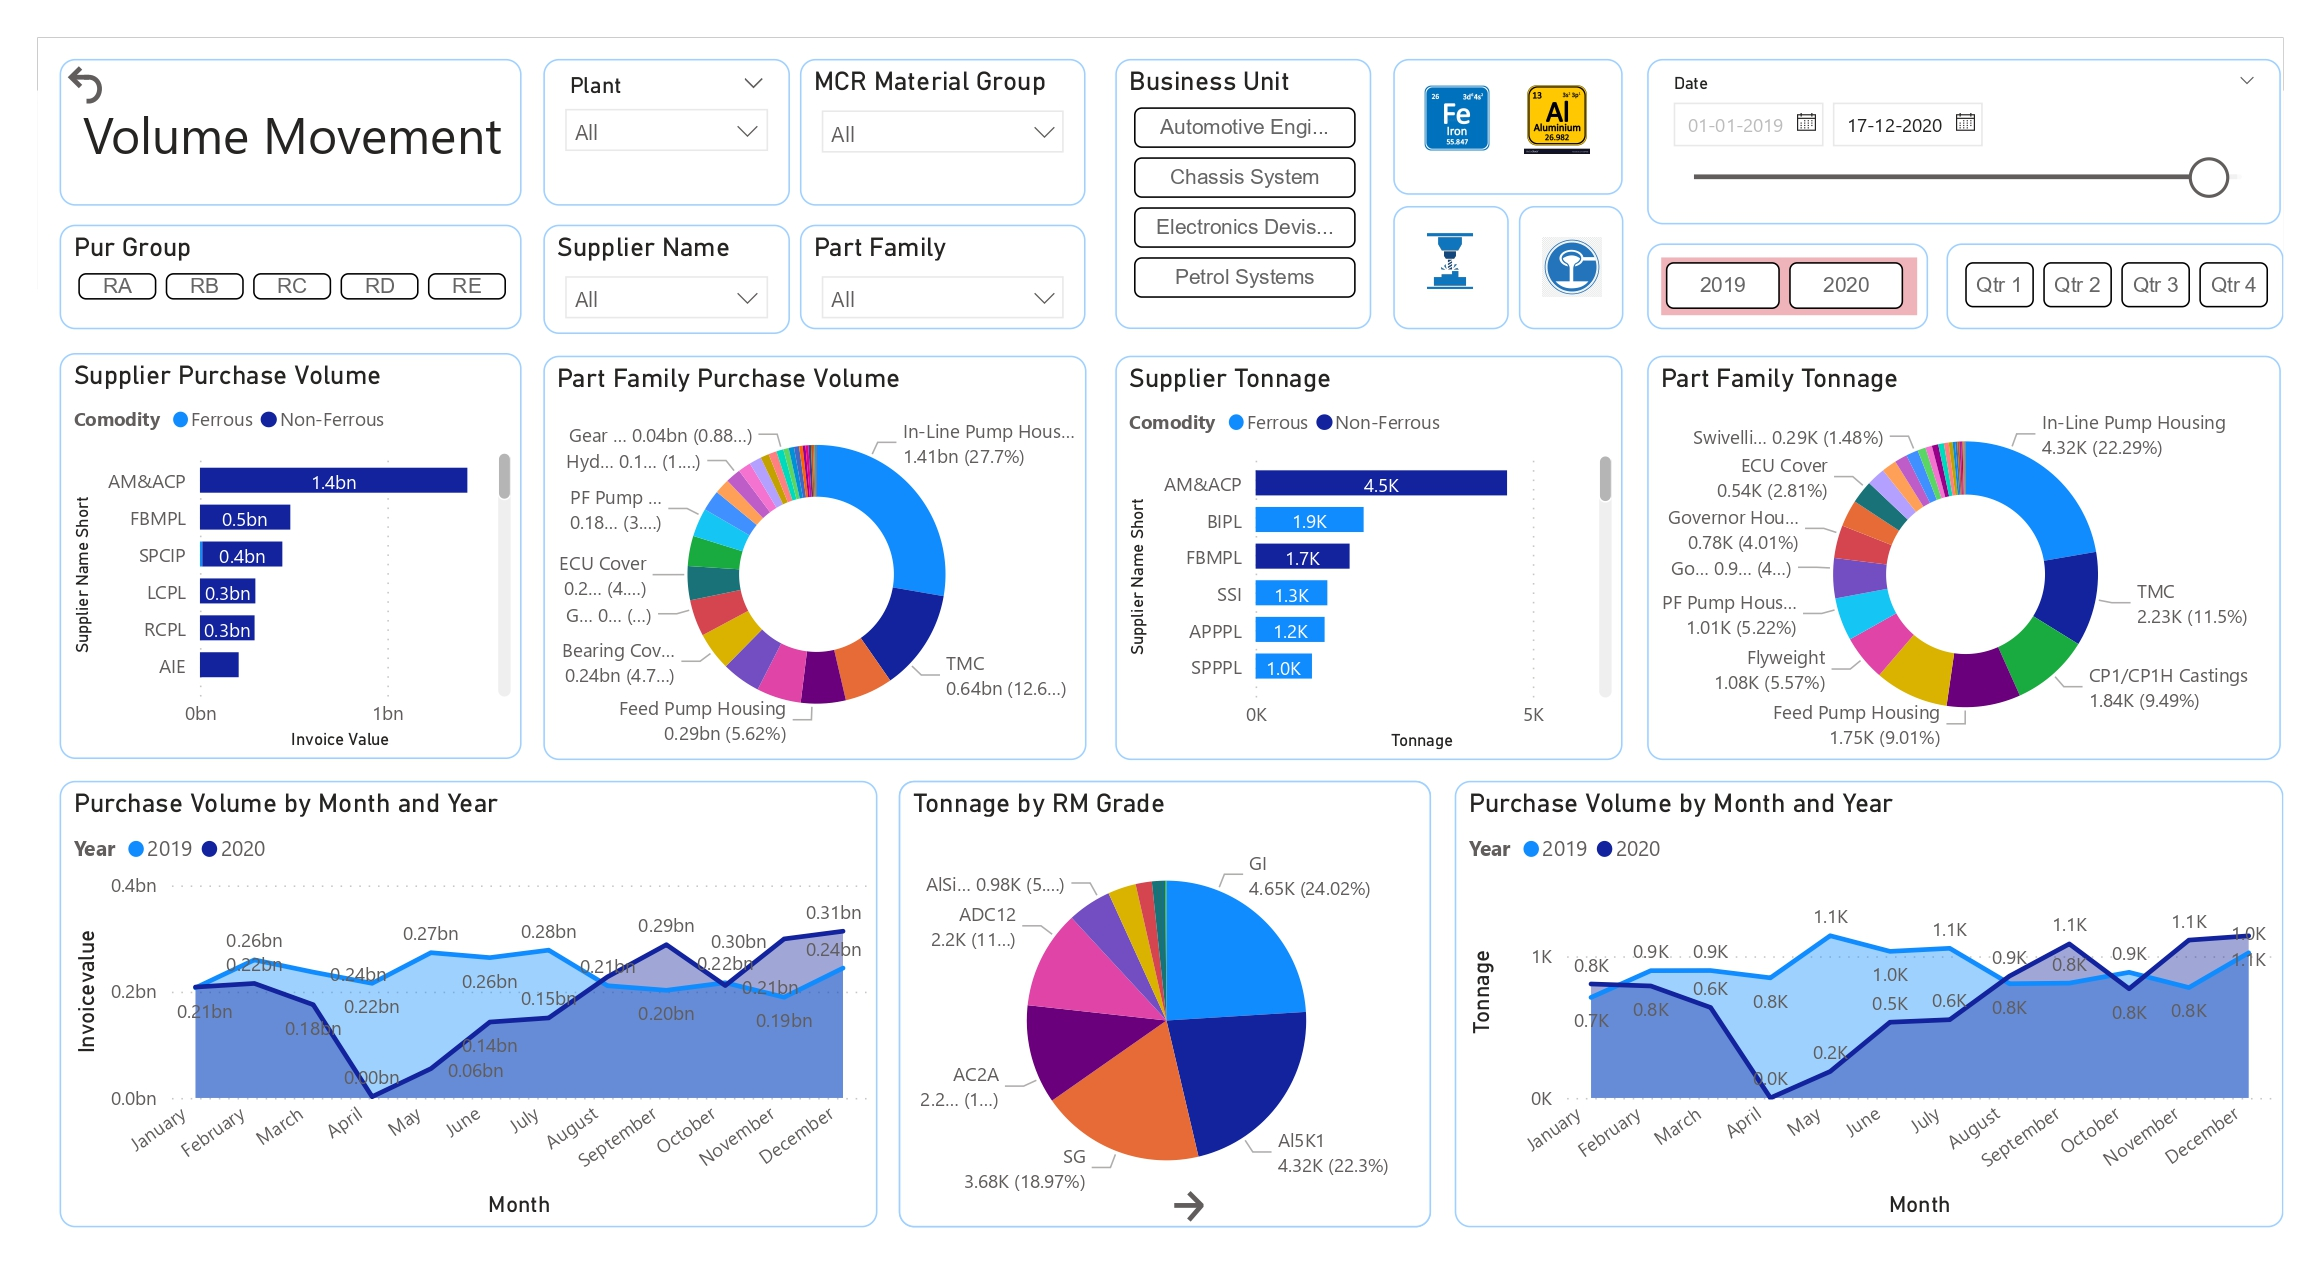

The page's visual inventory and layout, read from the dashboard file:
{"tool":"powerbi","page":{"name":"Volume Movement","canvas":[1438,762],"ordinal":1},"visuals":[{"type":"ChicletSlicer1448559807354","title":"Pur Group","fields":{"Category":["Supplier data.Buyer Code"]},"box":[13.7,119.9,296.2,66.8],"z":0},{"type":"textbox","box":[13.7,13.7,296.2,94.2],"z":1000},{"type":"slicer","fields":{"Values":["Master Report.Plant"]},"box":[323.6,13.7,157.5,94.2],"z":2000},{"type":"ChicletSlicer1448559807354","title":"Business Unit","fields":{"Category":["Master Report.BU"]},"box":[690.1,13.7,164.4,172.9],"z":3000},{"type":"slicer","title":"Supplier Name","fields":{"Values":["Supplier data.Name"]},"box":[323.6,119.9,157.5,70.2],"z":4000},{"type":"slicer","title":"MCR Material Group","fields":{"Values":["Master Report.MCR Mat.grp."]},"box":[488,13.7,183.2,94.2],"z":5000},{"type":"slicer","title":"Part Family","fields":{"Values":["Master Report.Part number"]},"box":[488,119.9,183.2,66.8],"z":6000},{"type":"barChart","title":"Supplier Purchase Volume","fields":{"Category":["Material weights and source.Supplier Name Short"],"Series":["Material weights and source.Comodity"],"Y":["Sum(Master Report.Invoicevalue)"]},"box":[13.7,202.1,296.2,260.3],"z":7000},{"type":"donutChart","title":"Part Family Purchase Volume","fields":{"Category":["Material weights and source.Part Family"],"Y":["Sum(Master Report.Invoicevalue)"]},"box":[323.6,203.8,347.6,258.6],"z":8000},{"type":"areaChart","title":"Purchase Volume by Month and Year","fields":{"Y":["Sum(Master Report.Invoicevalue)"],"Series":["Master Report.Year"],"Category":["Master Report.Date.Variation.Date Hierarchy.Month"]},"box":[13.7,476,524,286],"z":9000},{"type":"barChart","title":"Supplier Tonnage","fields":{"Category":["Material weights and source.Supplier Name Short"],"Y":["Sum(Master Report.Tonnage)"],"Series":["Material weights and source.Comodity"]},"box":[690.1,203.8,325.3,258.6],"z":10000},{"type":"donutChart","title":"Part Family Tonnage","fields":{"Y":["Sum(Master Report.Tonnage)"],"Category":["Material weights and source.Part Family"]},"box":[1030.8,203.8,405.8,258.6],"z":11000},{"type":"columnChart","title":"BU Purchase Volume","fields":{"Y":["Sum(Master Report.Invoicevalue)"],"Category":["Master Report.BU"]},"box":[551.2,475.6,341.1,285.8],"z":12000},{"type":"pieChart","title":"Tonnage by RM Grade","fields":{"Y":["Sum(Master Report.Tonnage)"],"Category":["Material weights and source.RM Grade"]},"box":[551.4,476,340.8,286],"z":13000},{"type":"ChicletSlicer1448559807354","fields":{"Category":["Supplier data.Casting"],"Image":["Supplier data.Casting Logo"]},"box":[948.6,107.9,66.8,78.8],"z":14000},{"type":"ChicletSlicer1448559807354","fields":{"Category":["Supplier data.Machining"],"Image":["Supplier data.Machining Logo"]},"box":[868.2,107.9,73.6,78.8],"z":15000},{"type":"ChicletSlicer1448559807354","fields":{"Category":["Supplier data.Comodity"],"Image":["Supplier data.Comodity Logo"]},"box":[868.2,13.7,147.3,87.3],"z":16000},{"type":"slicer","title":"Date","fields":{"Values":["Master Report.Date"]},"box":[1030.8,13.7,405.8,106.2],"z":17000},{"type":"ChicletSlicer1448559807354","fields":{"Category":["Master Report.Year"]},"box":[1030.8,131.9,179.8,54.8],"z":18000},{"type":"areaChart","title":"Purchase Volume by Month and Year","fields":{"Series":["Master Report.Year"],"Y":["Sum(Master Report.Tonnage)"],"Category":["Master Report.Date.Variation.Date Hierarchy.Month"]},"box":[905.2,475.6,531,285.8],"z":19000},{"type":"actionButton","box":[722.7,733.7,169.6,27.7],"z":20000},{"type":"ChicletSlicer1448559807354","fields":{"Category":["Master Report.Date.Variation.Date Hierarchy.Quarter"]},"box":[1222.6,131.9,215.8,54.8],"z":22000},{"type":"actionButton","box":[13.7,13.7,114.7,32.5],"z":23000}]}

Visuals, with their boxes in screenshot pixels (x1, y1, x2, y2):
"Pur Group" ChicletSlicer1448559807354: Rect(59, 225, 522, 329)
textbox: Rect(59, 59, 522, 206)
slicer - Master Report.Plant: Rect(543, 59, 789, 206)
"Business Unit" ChicletSlicer1448559807354: Rect(1115, 59, 1372, 329)
"Supplier Name" slicer: Rect(543, 225, 789, 334)
"MCR Material Group" slicer: Rect(800, 59, 1086, 206)
"Part Family" slicer: Rect(800, 225, 1086, 329)
"Supplier Purchase Volume" barChart: Rect(59, 353, 522, 760)
"Part Family Purchase Volume" donutChart: Rect(543, 356, 1086, 760)
"Purchase Volume by Month and Year" areaChart: Rect(59, 781, 877, 1228)
"Supplier Tonnage" barChart: Rect(1115, 356, 1623, 760)
"Part Family Tonnage" donutChart: Rect(1648, 356, 2281, 760)
"BU Purchase Volume" columnChart: Rect(898, 780, 1431, 1227)
"Tonnage by RM Grade" pieChart: Rect(899, 781, 1431, 1228)
ChicletSlicer1448559807354 - Supplier data.Casting x Supplier data.Casting Logo: Rect(1519, 206, 1623, 329)
ChicletSlicer1448559807354 - Supplier data.Machining x Supplier data.Machining Logo: Rect(1394, 206, 1508, 329)
ChicletSlicer1448559807354 - Supplier data.Comodity x Supplier data.Comodity Logo: Rect(1394, 59, 1624, 195)
"Date" slicer: Rect(1648, 59, 2281, 225)
ChicletSlicer1448559807354 - Master Report.Year: Rect(1648, 243, 1928, 329)
"Purchase Volume by Month and Year" areaChart: Rect(1451, 780, 2281, 1227)
actionButton: Rect(1166, 1183, 1431, 1227)
ChicletSlicer1448559807354 - Master Report.Date.Variation.Date Hierarchy.Quarter: Rect(1947, 243, 2284, 329)
actionButton: Rect(59, 59, 238, 110)
